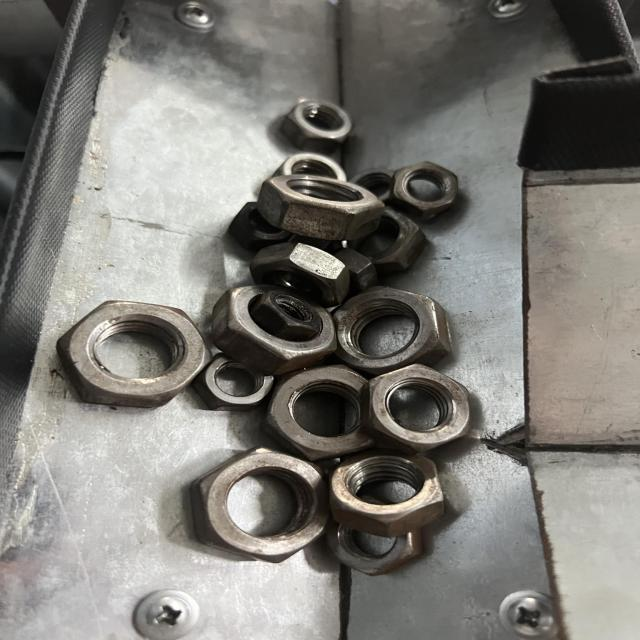nut: (192, 446, 334, 566), (55, 300, 206, 408), (366, 363, 472, 455), (393, 162, 460, 218)
